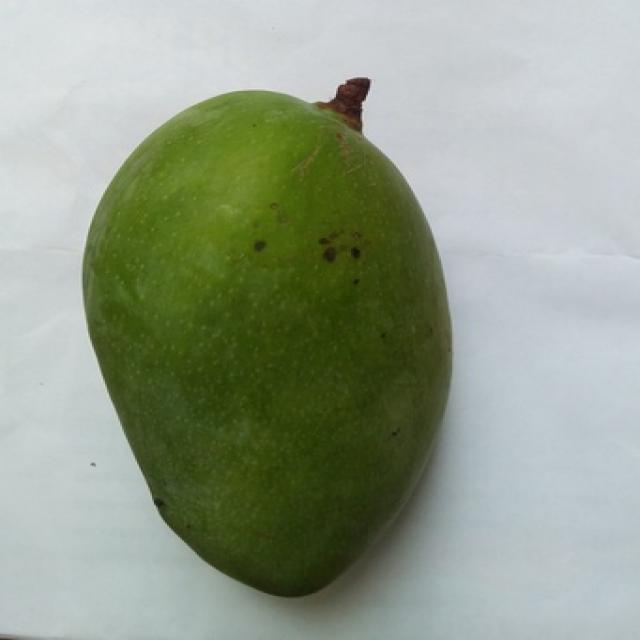Mango: (83, 91, 450, 596)
